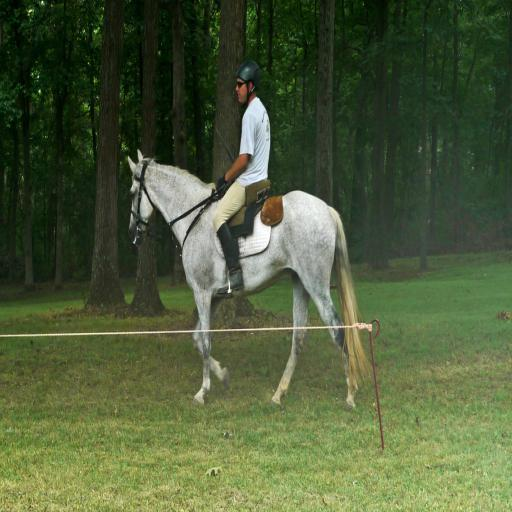Horse: (126, 146, 372, 412)
